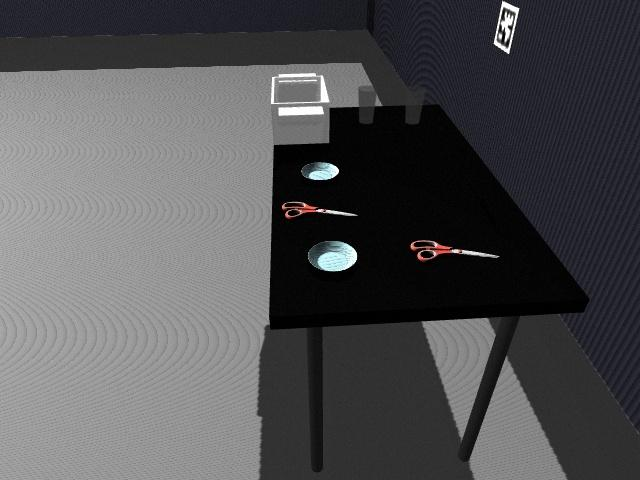cup: (405, 87, 425, 126), (358, 85, 376, 125)
plate: (306, 239, 359, 273), (298, 162, 340, 182)
scissors: (412, 239, 498, 261), (282, 201, 356, 219)
